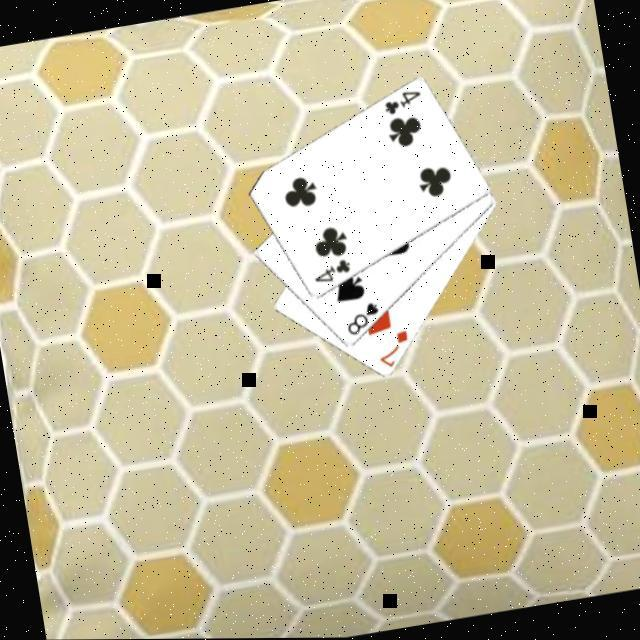4C: (307, 255, 355, 288), (378, 86, 426, 119)
7D: (370, 326, 414, 371)
8S: (339, 298, 384, 339)
